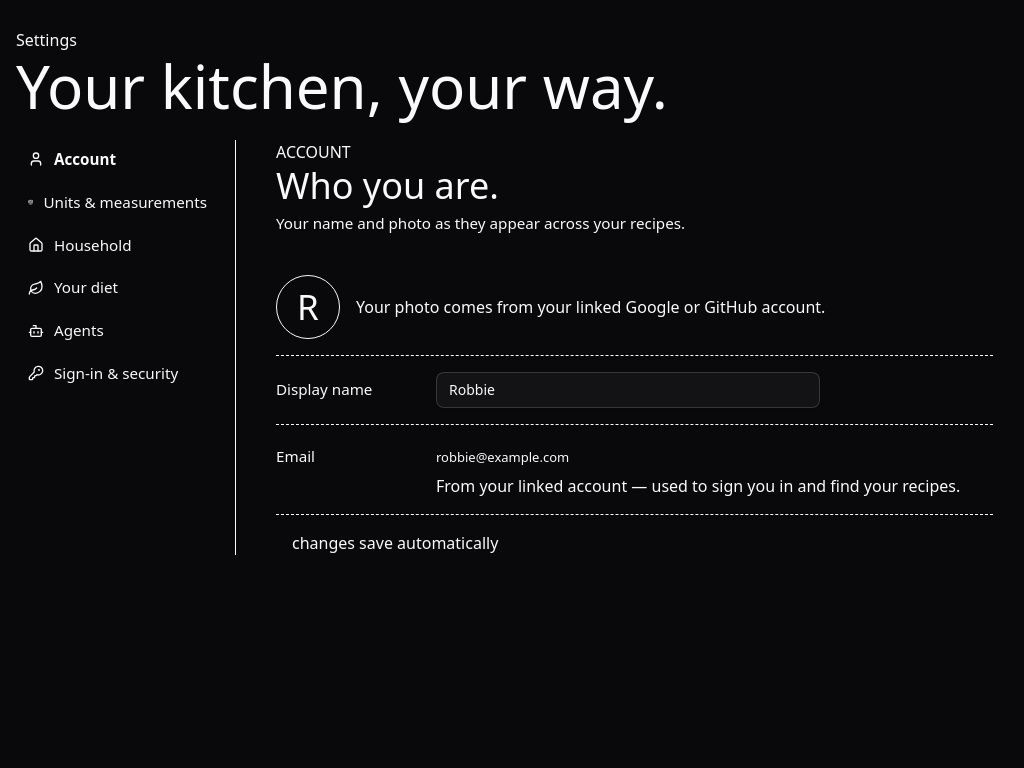
Test case: SettingsView › rejects an empty display name without saving
This screenshot has width=1024, height=768.
Clear the field named "Display name" at (628, 390), box x1=436 y1=372 x2=820 y2=408
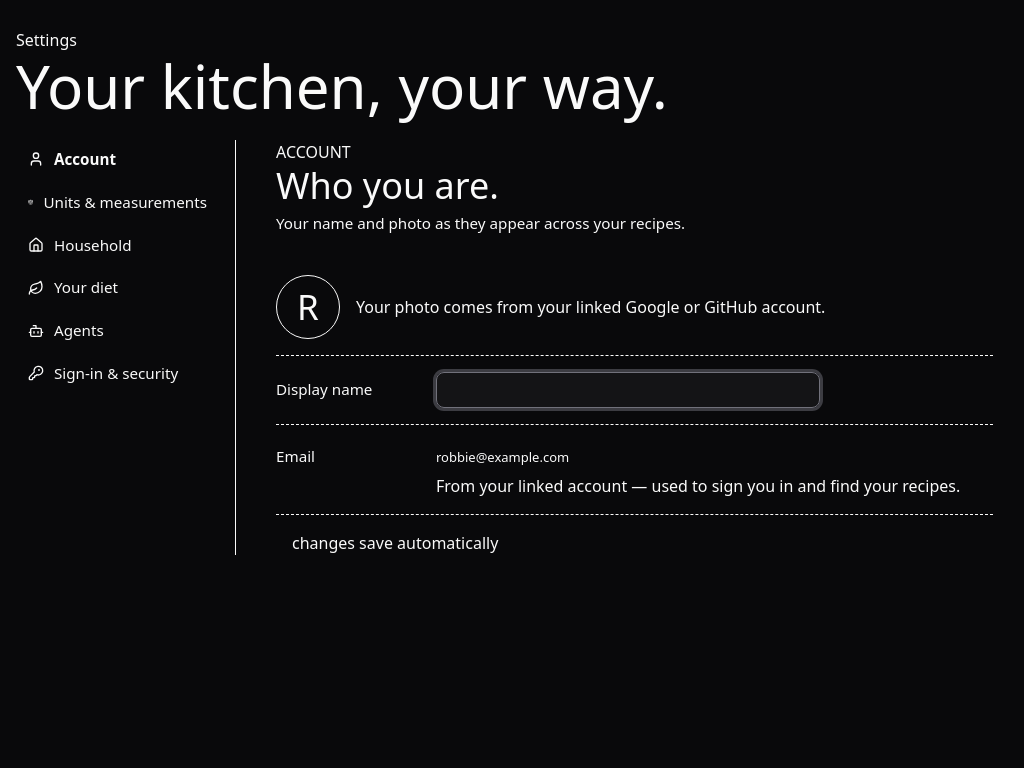
Press Tab
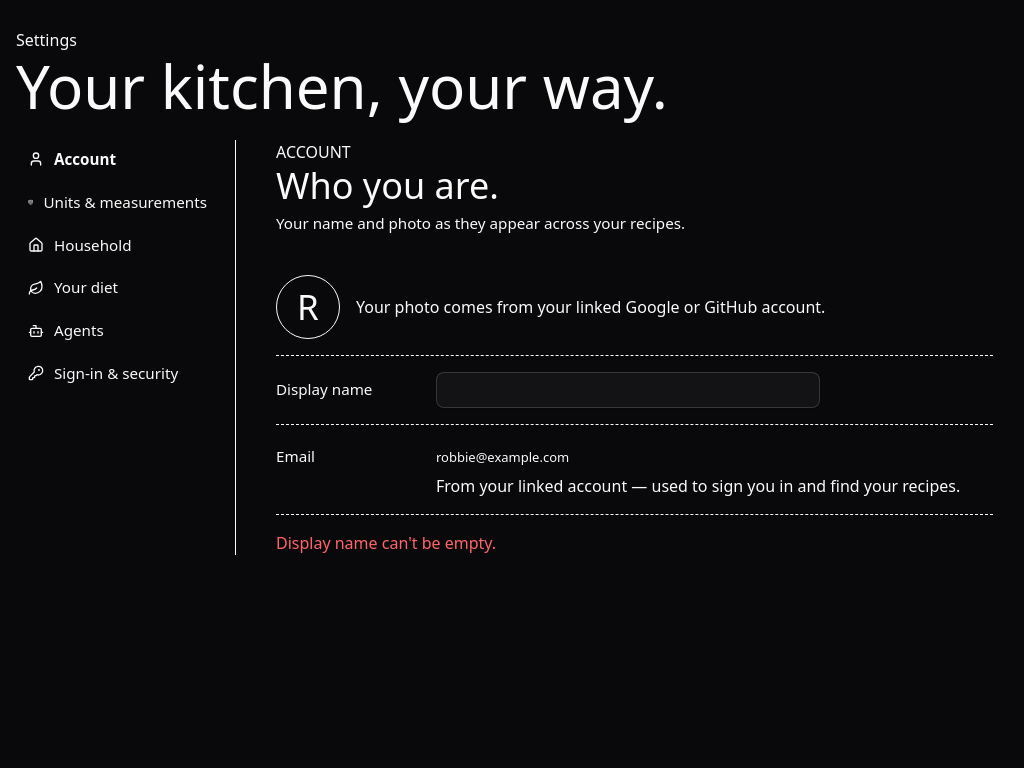
Check: the text "Display name can't be empty." is shown, box x1=276 y1=531 x2=496 y2=555
